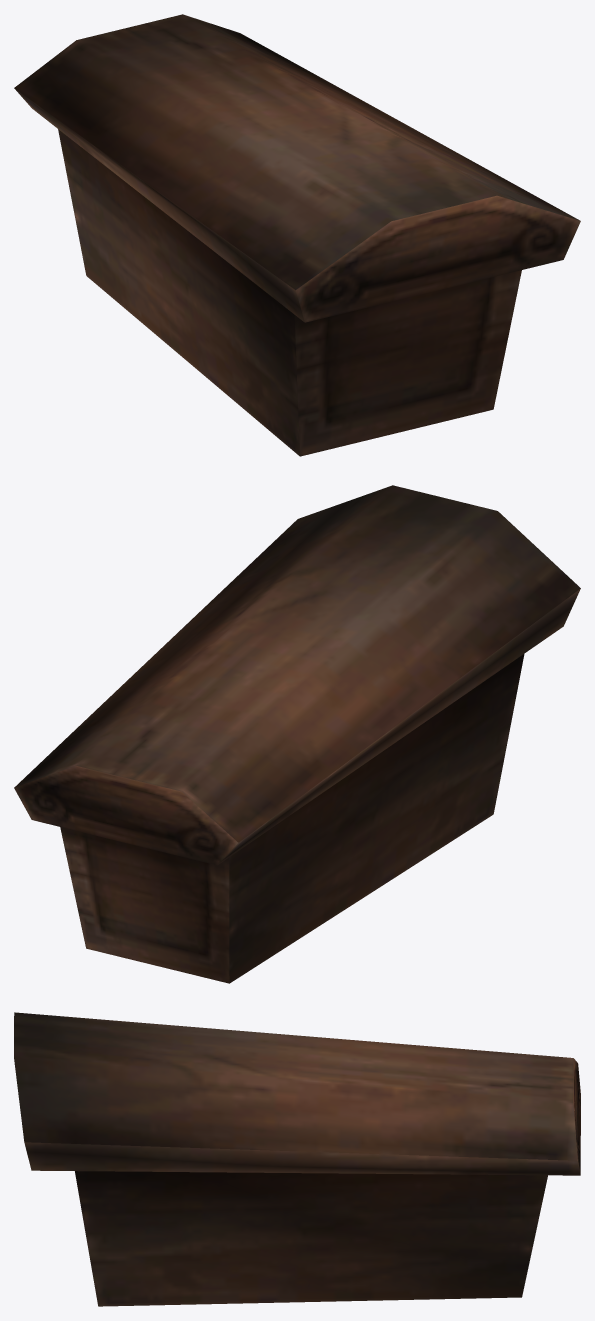
The model's file is environment_common_guancai_002_a.FBX.
3 renders of one model, top to bottom at view 1: azimuth 30°, elevation 25°; view 2: azimuth 150°, elevation 25°; view 3: azimuth 270°, elevation 25°, orthographic. The views are drawn at different scales.
Visible parts, largest first — view 1: environment_common_guancai_002_a; view 2: environment_common_guancai_002_a; view 3: environment_common_guancai_002_a.
Part boxes in pixels (left/top/right/bottom): environment_common_guancai_002_a: left=14, top=14, right=580, bottom=456; environment_common_guancai_002_a: left=14, top=485, right=580, bottom=983; environment_common_guancai_002_a: left=14, top=1012, right=580, bottom=1306.
Size of the model in its own units: 217 by 189 by 422.
